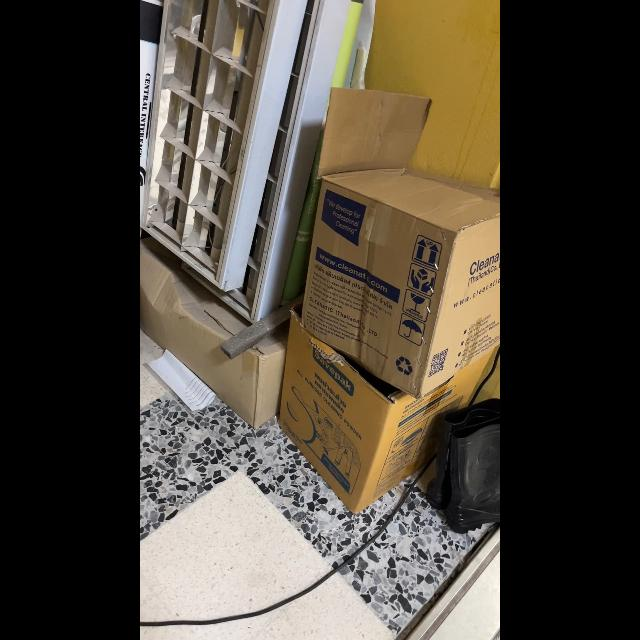cardboard_box: (300, 84, 500, 396), (270, 315, 490, 511)
